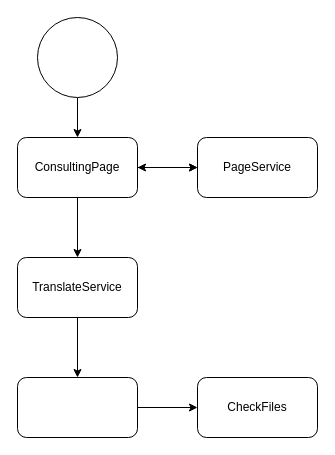
Some shapes in this 335 by 455 pixel diagram are drawn without their labels. Each missing label, with the box of its shape:
Entrada de dados: (36, 16, 118, 98)
FileService: (16, 376, 138, 438)
